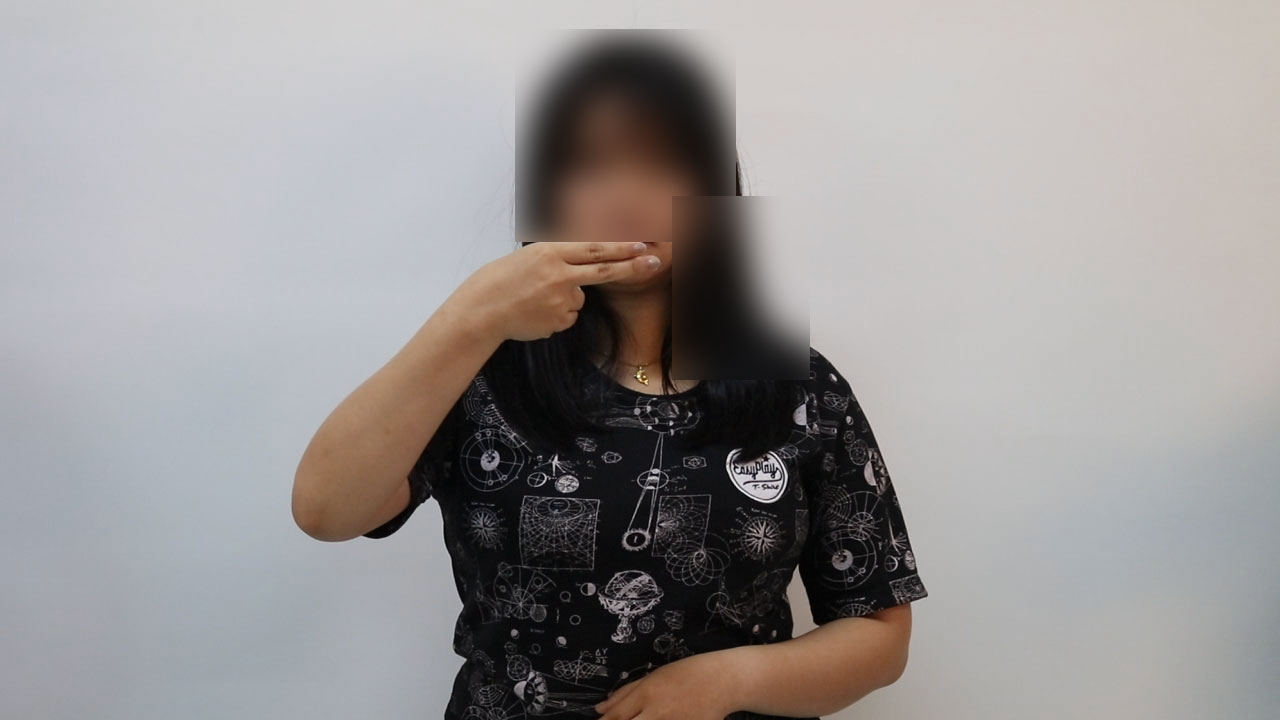hor: (455, 229, 680, 352)
